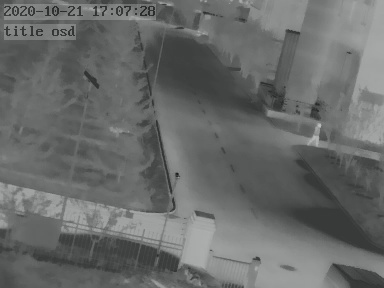person: (308, 122, 321, 146)
